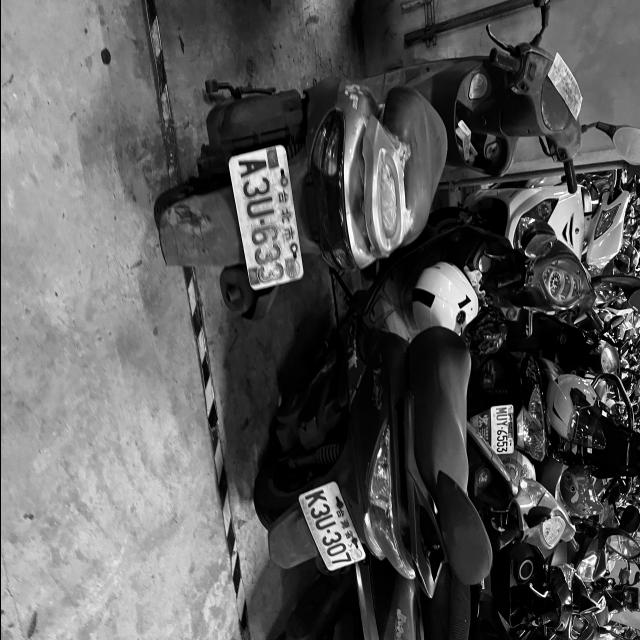-: (259, 218, 264, 226), (325, 528, 331, 534), (499, 427, 504, 429)
0: (325, 541, 346, 558)
3: (241, 175, 271, 200), (256, 260, 284, 286), (251, 242, 281, 266), (308, 502, 331, 522), (320, 530, 343, 550), (496, 447, 506, 453)
5: (496, 436, 507, 442), (496, 442, 507, 448)
6: (248, 222, 279, 249), (496, 430, 506, 436)
7: (331, 550, 352, 568)
A: (236, 158, 270, 179)
K: (303, 488, 326, 509)
M: (494, 407, 506, 415)
U: (244, 195, 275, 223), (313, 514, 336, 533), (495, 414, 507, 421)
Y: (495, 420, 507, 427)
plate: (230, 149, 300, 290), (299, 483, 362, 572), (492, 406, 512, 454)
